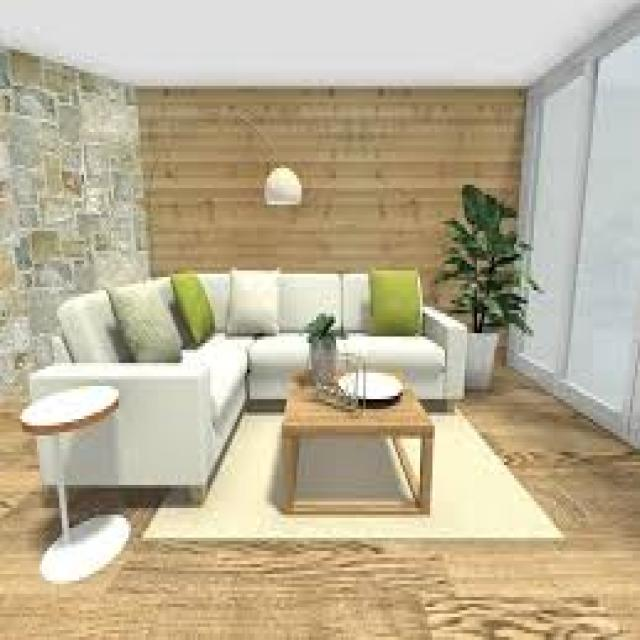Lamp: (135, 109, 305, 252)
Sofa: (36, 259, 469, 496)
Table: (288, 354, 439, 512)
